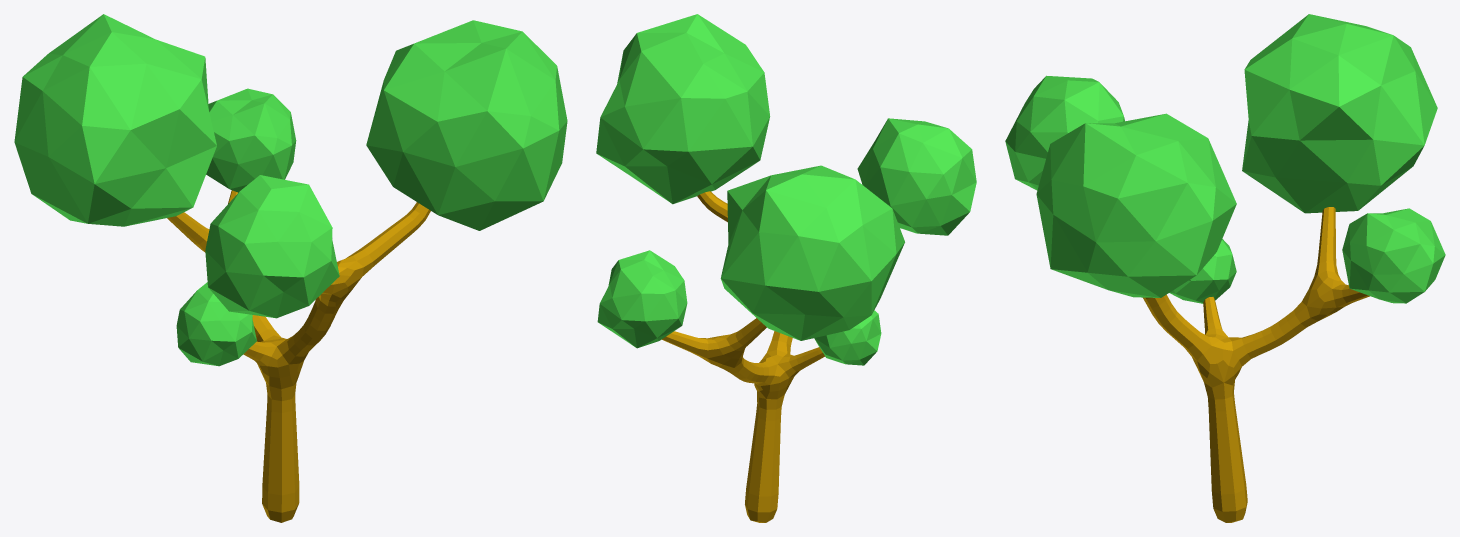
The model's file is tree01.glb.
3 views of the same model, side by side, from view 1: azimuth 30°, elevation 25°; view 2: azimuth 150°, elevation 25°; view 3: azimuth 270°, elevation 25° (orthographic). The views are drawn at different scales.
Visible parts, largest first — view 1: Tree01_Leves, Tree01; view 2: Tree01_Leves, Tree01; view 3: Tree01_Leves, Tree01.
Part boxes in pixels (x1,y1,x2,y2): Tree01_Leves: [14, 14, 567, 366]; Tree01: [167, 190, 430, 522]; Tree01_Leves: [596, 14, 976, 365]; Tree01: [662, 191, 824, 522]; Tree01_Leves: [1005, 14, 1445, 303]; Tree01: [1143, 207, 1369, 522].
Size of the model in its own units: 9.23 by 10.49 by 8.94.
